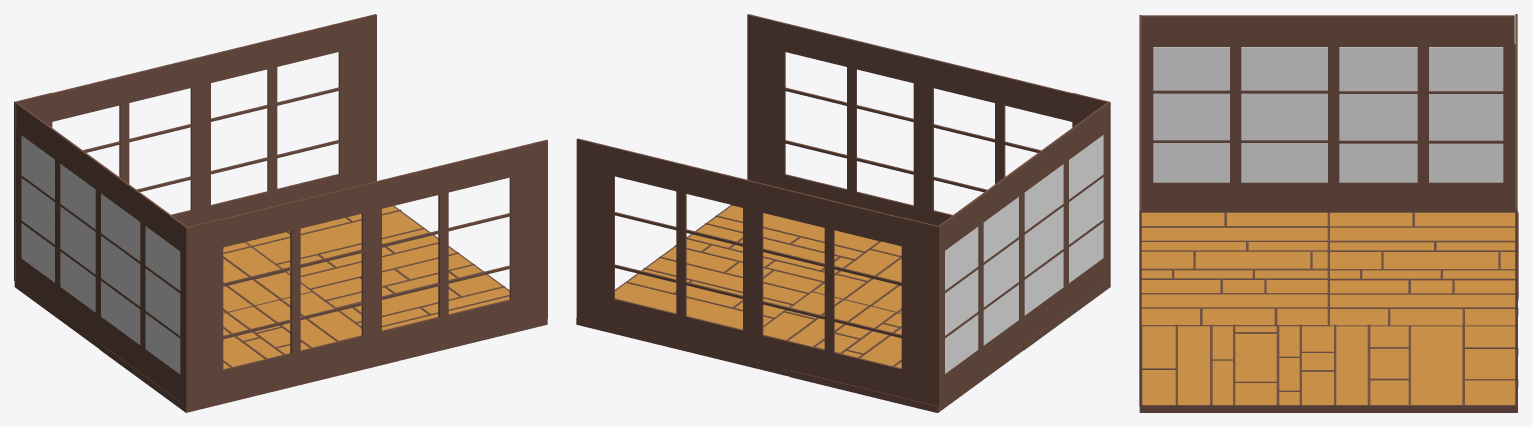
File: scene_NODL6JQnop.glb
The picture shows the model from 3 angles, left to right: view 1: azimuth 30°, elevation 25°; view 2: azimuth 150°, elevation 25°; view 3: azimuth 270°, elevation 25°; orthographic projection. The views are drawn at different scales.
Parts seen in each view (by area): view 1: group1086133536, group20681411, group355584777, group384923790, group15351772, group244870145, group339400796, group568917133, group229557096, group1001235516, group40311466, group594336532 (+22 smaller); view 2: group1086133536, group20681411, group594336532, group384923790, group15351772, group1766191406, group244870145, group339400796, group1425796454, group1001235516, group40311466, group568917133 (+23 smaller); view 3: group1086133536, group20681411, group1425796454, group568917133, group40311466, group1001235516, group914611217, group1958489754, group739854925, group771015584, group291934708, group1925061726 (+24 smaller).
Boxes of the visible parts, x1,y1,x2,y2 form: group1086133536: (21, 135, 180, 373); group20681411: (247, 206, 509, 330); group355584777: (185, 291, 547, 407); group384923790: (187, 148, 511, 256); group15351772: (16, 23, 340, 128); group244870145: (338, 14, 376, 174); group339400796: (509, 139, 547, 299); group568917133: (223, 292, 361, 369); group229557096: (185, 218, 223, 379); group1001235516: (16, 103, 186, 254); group40311466: (16, 258, 184, 404); group594336532: (14, 165, 376, 281); group1086133536: (945, 135, 1103, 373); group20681411: (615, 205, 878, 329); group594336532: (576, 290, 940, 406); group384923790: (783, 23, 1072, 121); group15351772: (613, 147, 901, 246); group1766191406: (901, 217, 940, 378); group244870145: (576, 138, 614, 299); group339400796: (747, 14, 785, 175); group1425796454: (763, 292, 901, 368); group1001235516: (938, 102, 1109, 253); group40311466: (940, 255, 1109, 405); group568917133: (814, 241, 901, 312); group1086133536: (1153, 47, 1503, 182); group20681411: (1142, 326, 1515, 404); group1425796454: (1330, 212, 1515, 325); group568917133: (1141, 212, 1327, 324); group40311466: (1141, 182, 1515, 212); group1001235516: (1141, 15, 1514, 46); group914611217: (1139, 405, 1515, 412); group1958489754: (1141, 38, 1153, 182); group739854925: (1417, 34, 1428, 182); group771015584: (1328, 37, 1339, 182); group291934708: (1503, 44, 1515, 182); group1925061726: (1230, 36, 1241, 182).
Size of the model in its own units: 9.26 by 4.53 by 7.62.
